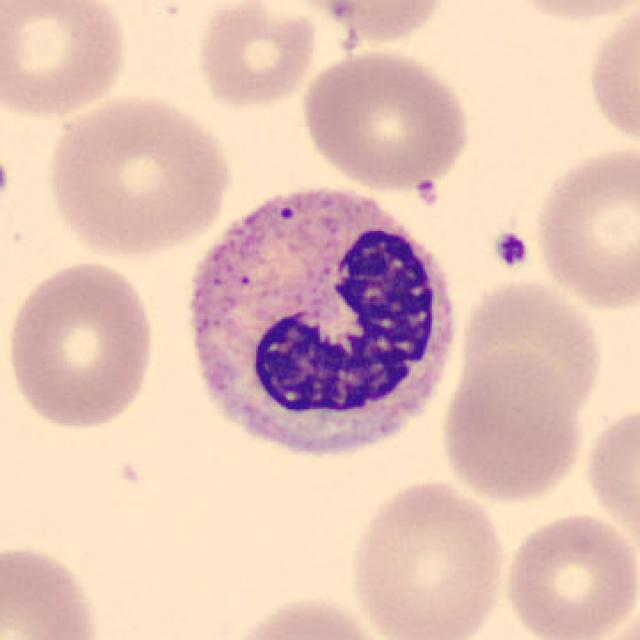Neutrophil: (170, 171, 468, 480)
Platelets: (489, 228, 533, 272)
RBC: (41, 90, 236, 259), (2, 255, 160, 436), (343, 476, 512, 640), (295, 46, 475, 192), (438, 347, 590, 506), (450, 275, 608, 421), (530, 139, 638, 314), (500, 508, 638, 640), (0, 0, 132, 120), (192, 0, 322, 111), (0, 537, 106, 640), (220, 590, 394, 640), (582, 398, 638, 552), (583, 2, 640, 153), (281, 0, 451, 48), (499, 0, 640, 26), (590, 604, 638, 640)
